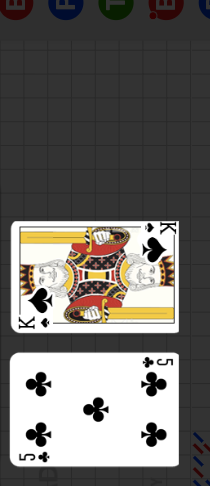5C: (17, 449, 52, 463)
KS: (17, 315, 53, 331)
